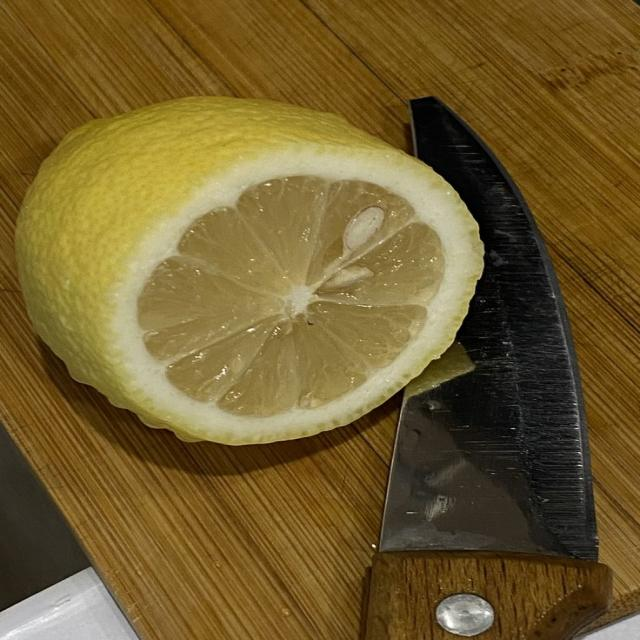lemon: (17, 98, 482, 444)
